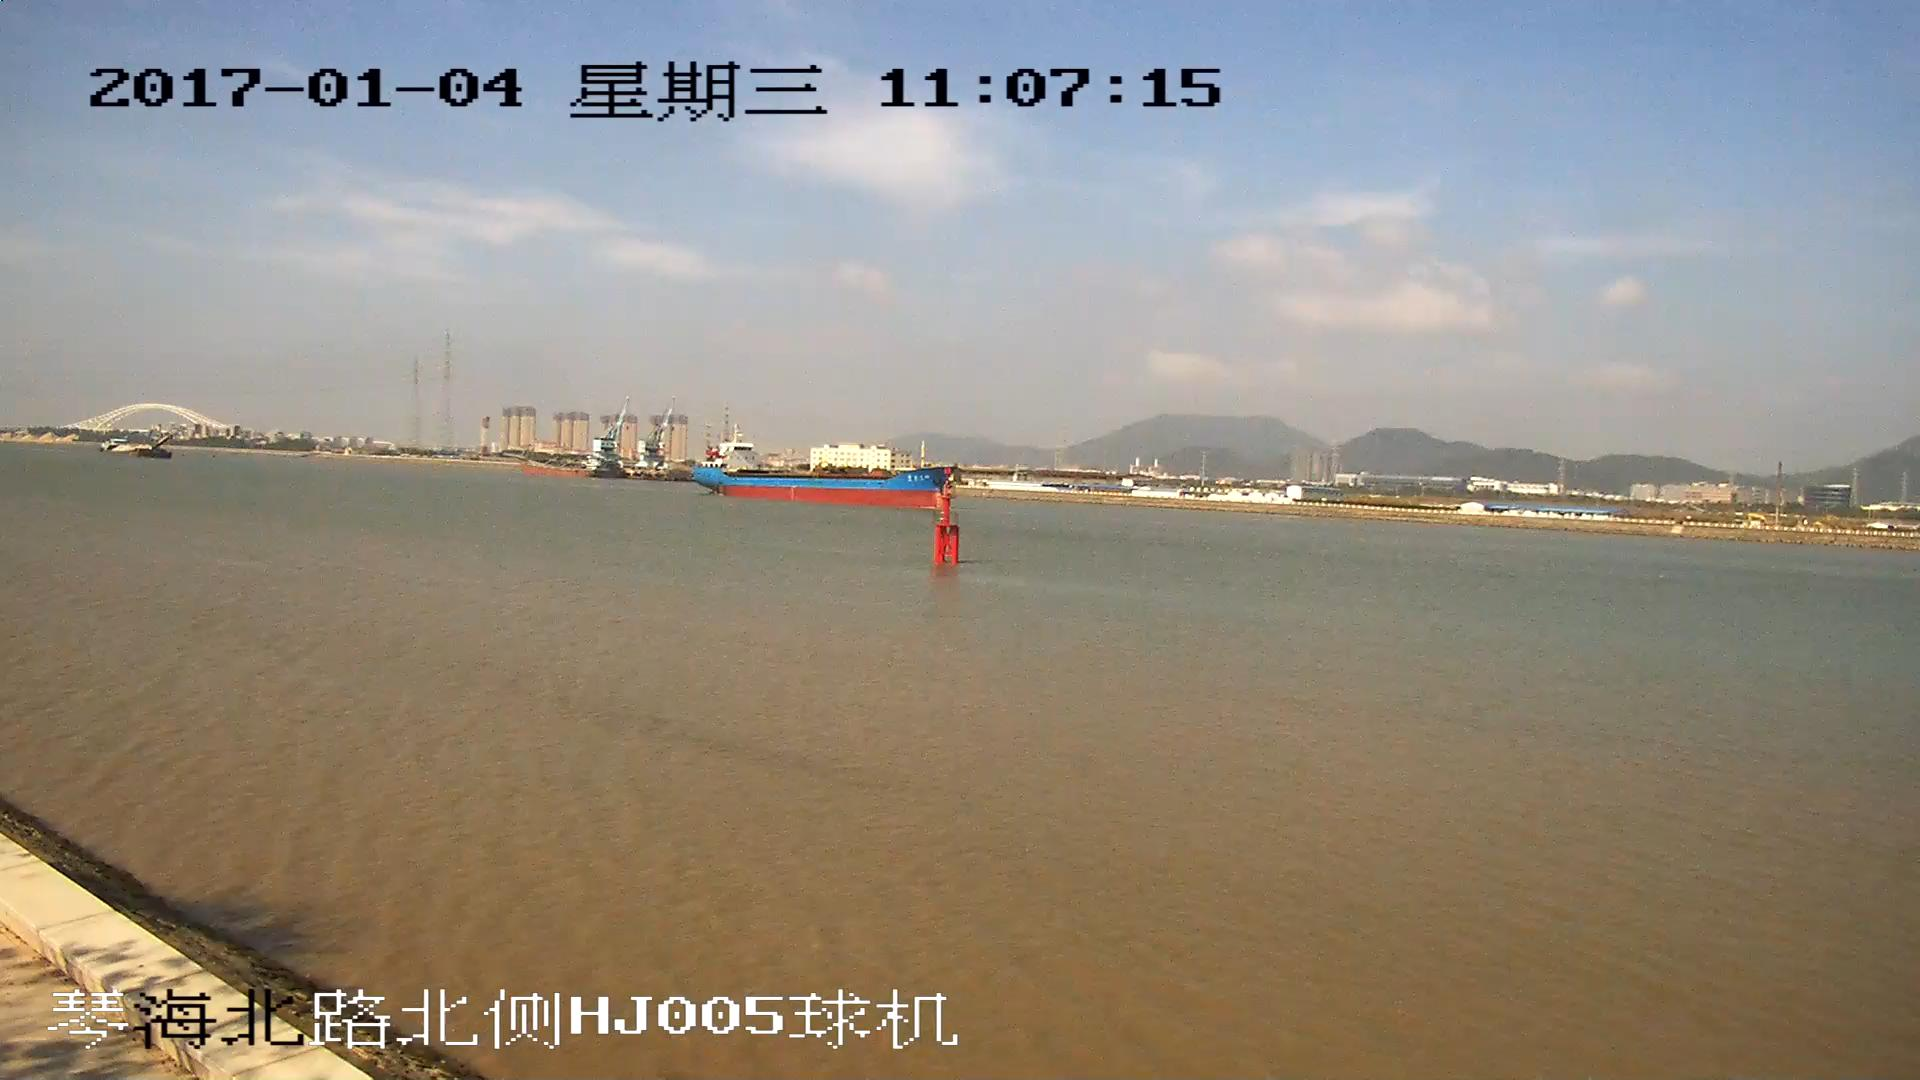general cargo ship: (688, 429, 953, 510)
